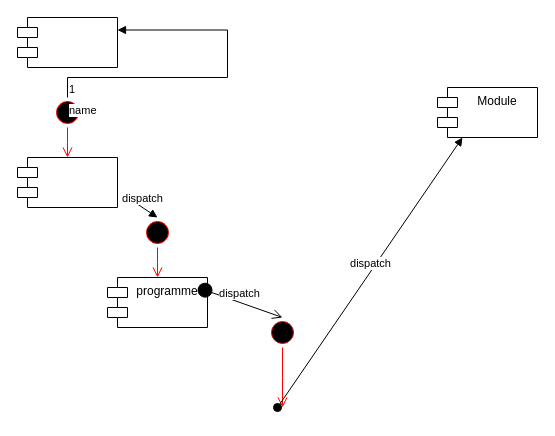
The diagram is 555 pixels wide and 436 high, and some of its shapes have lost their labels. The shapes that lost their labels are listed below. From the top down, each one's centre as x and y in pixels, then its label:
At point (67, 42): "interface".
At point (67, 182): "fenetre".
